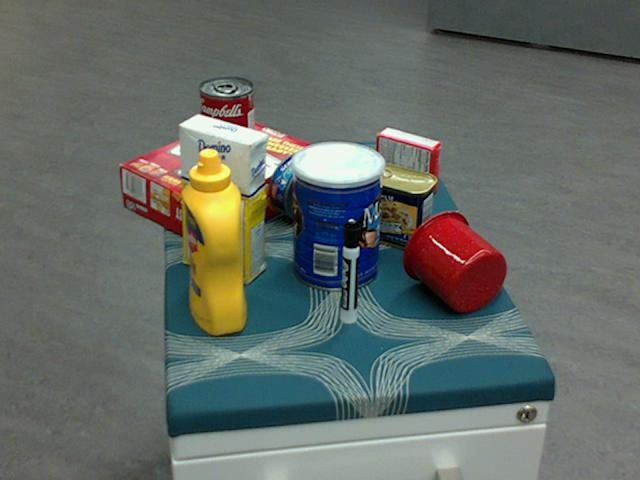cracker_box: (119, 115, 322, 251)
gelatin_box: (376, 127, 442, 196)
large_marker: (341, 219, 359, 324)
master_chef_can: (291, 141, 384, 291)
mug: (403, 210, 507, 312)
mustard_bottle: (182, 148, 246, 335)
potted_meat_can: (351, 160, 436, 248)
sugar_box: (179, 114, 267, 285)
tomato_soup_can: (198, 77, 255, 172)
tuna_fish_can: (267, 150, 334, 220)
